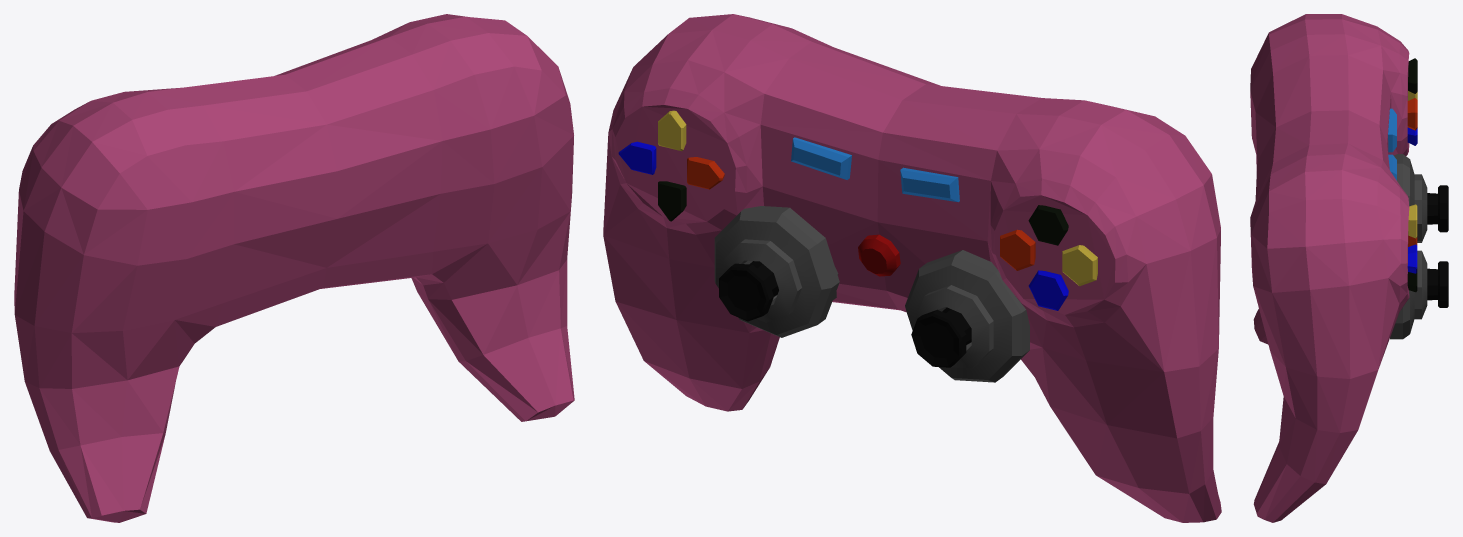
Rendered from Joystick.FBX.
3 renders of one model, left to right at view 1: azimuth 30°, elevation 25°; view 2: azimuth 150°, elevation 25°; view 3: azimuth 270°, elevation 25°, orthographic. The views are drawn at different scales.
Parts seen in each view (by area): view 1: Joystick; view 2: Joystick; view 3: Joystick.
Boxes of the visible parts, box(x1,y1,x2,y2) form: Joystick: box(14, 14, 574, 522); Joystick: box(603, 14, 1221, 522); Joystick: box(1250, 14, 1448, 522).
Bounding box in the file's own units: 1053 × 383 × 708.
